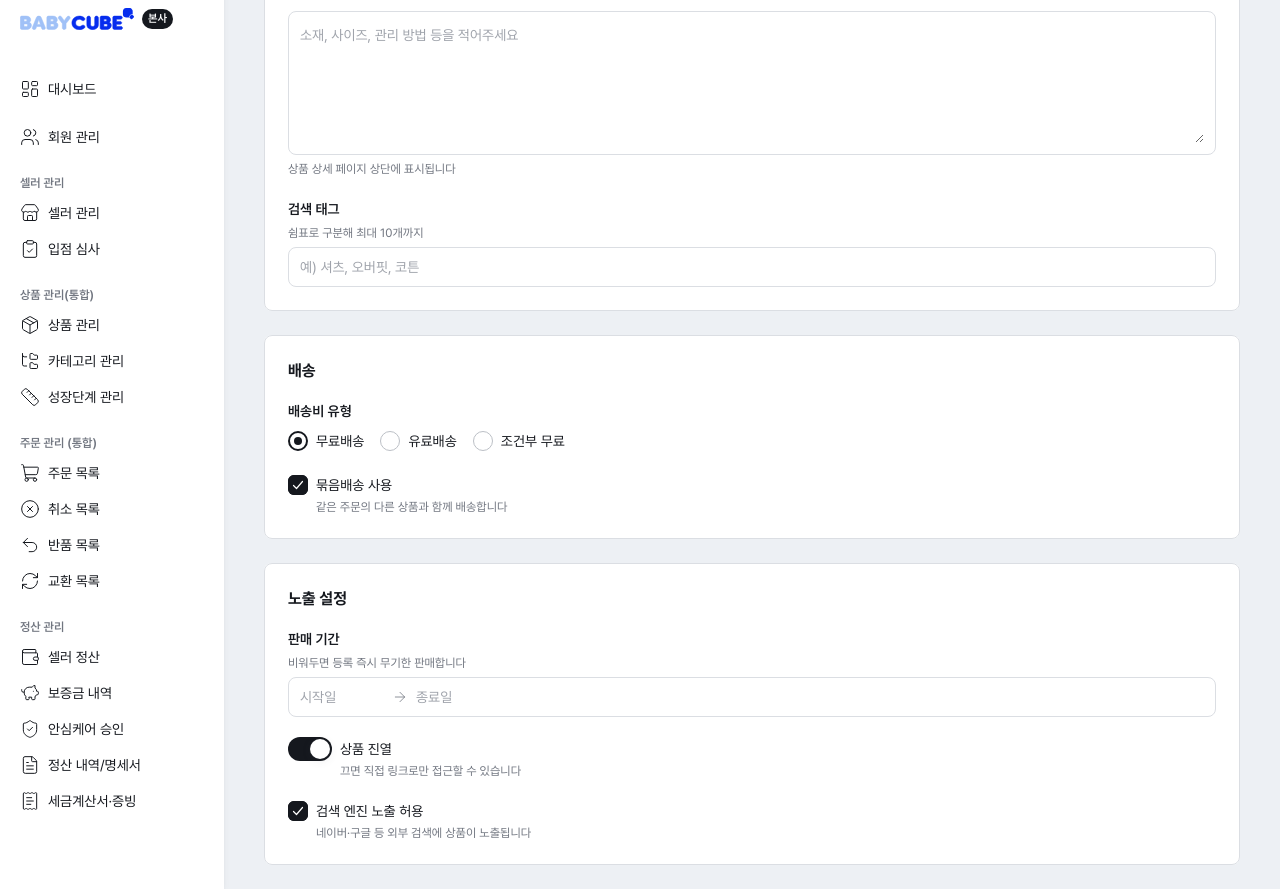
Test: ProductFormPage › 배송비 조건부 표시 › 유료배송을 고르면 배송비 필드가 나타난다
(page scrolled)
Click the radio button labelled "유료배송" at (419, 441), box [380,429,457,453]
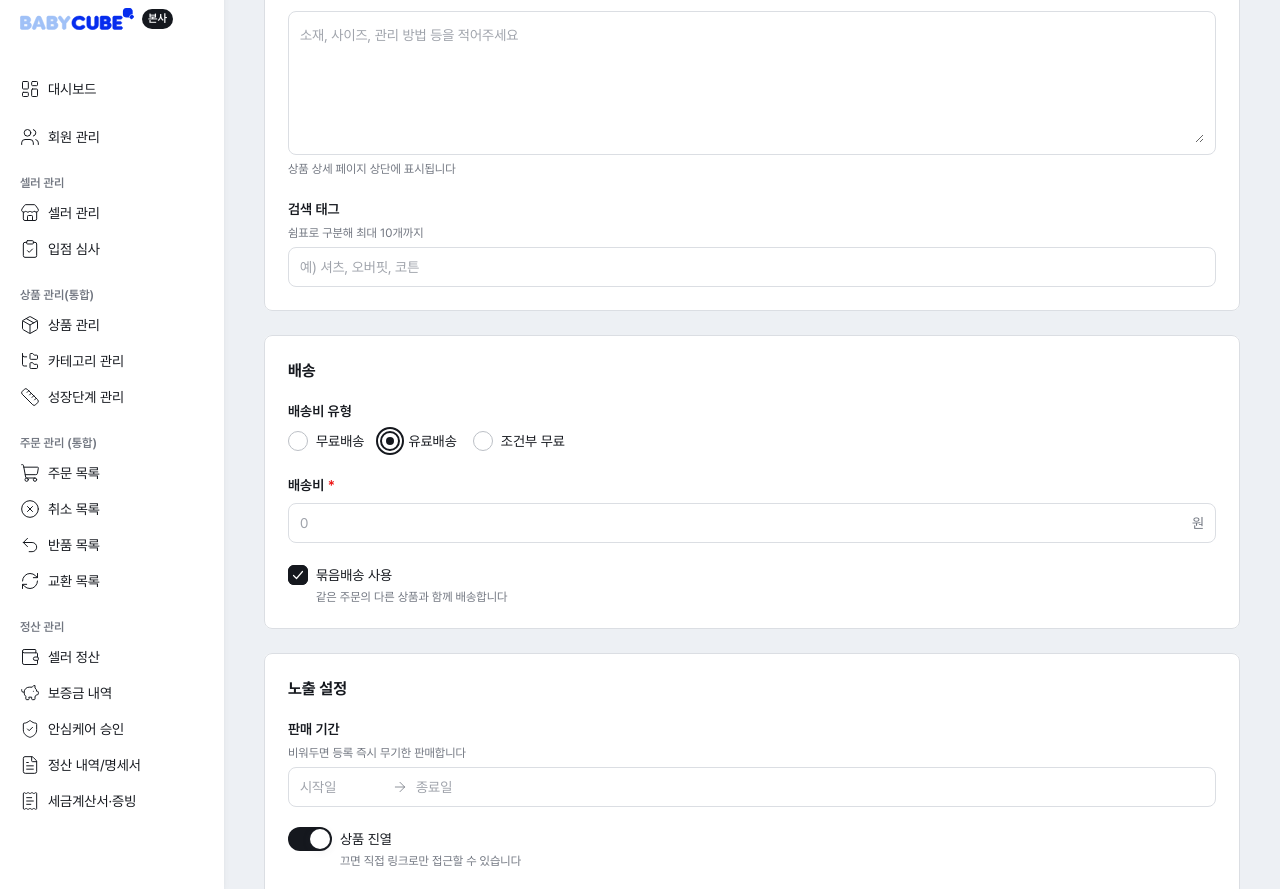
Result: the field labelled "배송비" is shown at [300,511,1184,535]
